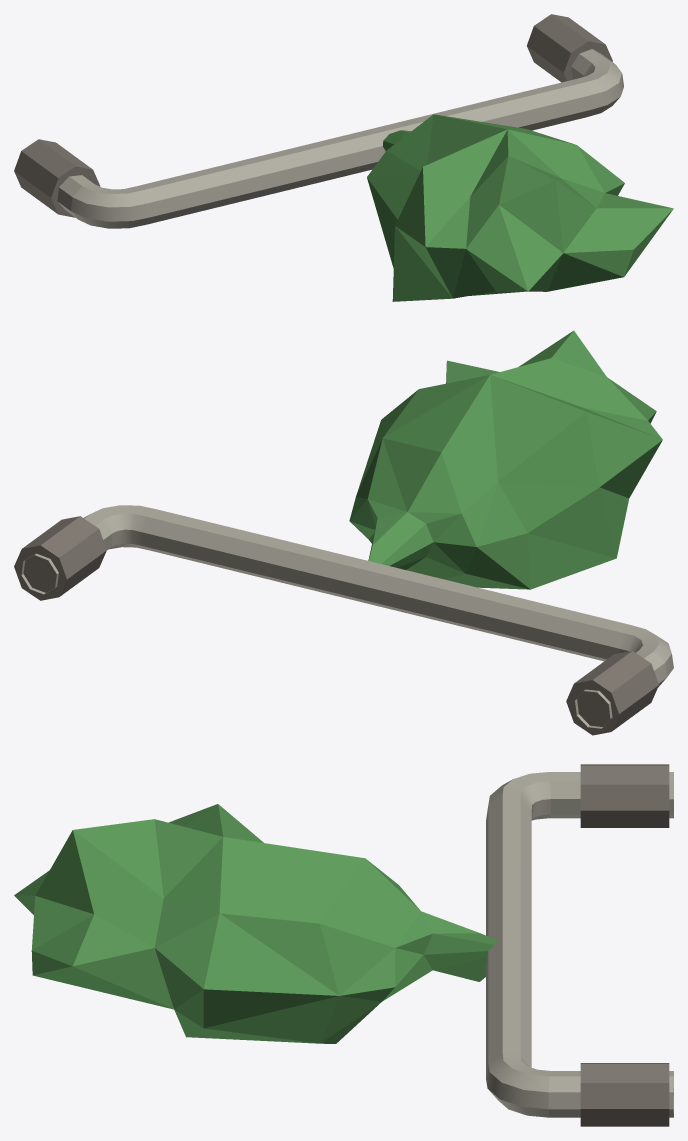
File: accion_mecanico.fbx
3 renders of one model, top to bottom at view 1: azimuth 30°, elevation 25°; view 2: azimuth 150°, elevation 25°; view 3: azimuth 270°, elevation 25°, orthographic. The views are drawn at different scales.
Parts seen in each view (by area): view 1: gas_verde, tuberia; view 2: gas_verde, tuberia; view 3: gas_verde, tuberia.
Boxes of the visible parts, x1,y1,x2,y2 form: gas_verde: (367,114,673,301); tuberia: (14,14,623,228); gas_verde: (349,330,662,589); tuberia: (14,505,673,735); gas_verde: (14,804,498,1043); tuberia: (486,764,673,1126).
Size of the model in its own units: 98.4 by 27.88 by 83.89.
